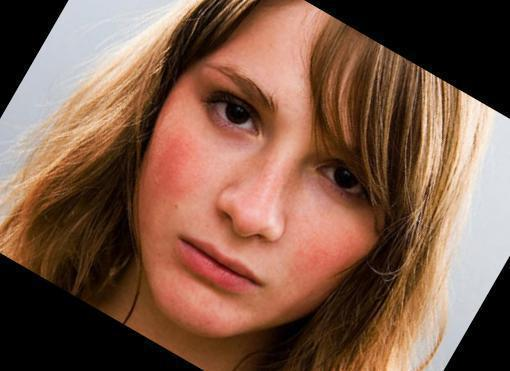Drunk: (165, 13, 372, 333)
